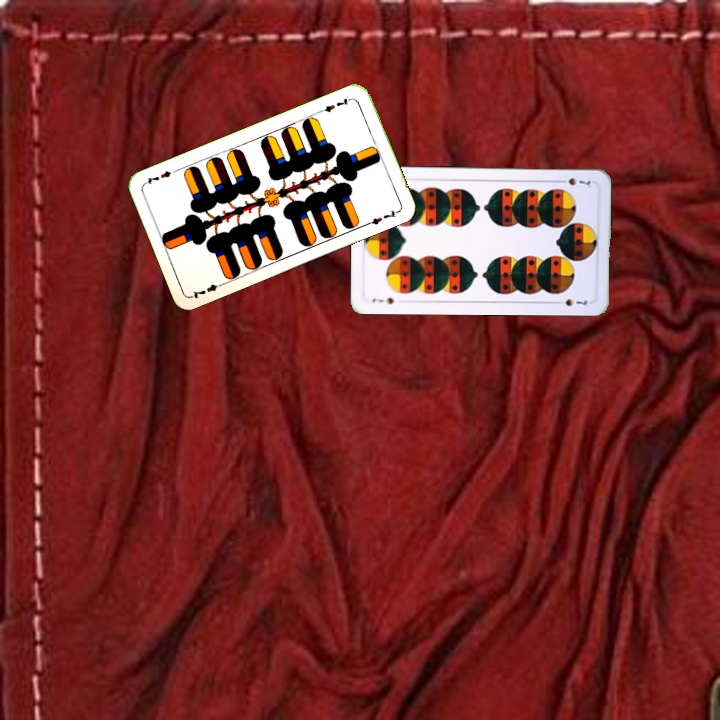E7: (188, 278, 227, 301), (316, 94, 355, 115)
S7: (554, 174, 593, 188), (368, 293, 396, 307)
